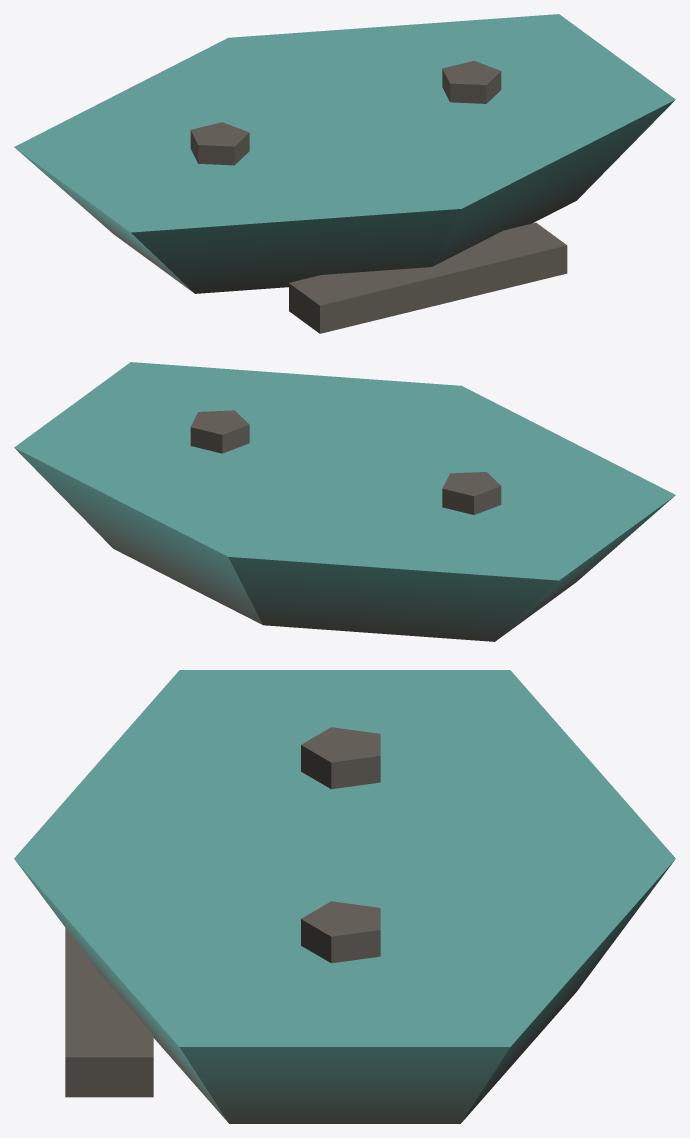
File: head_wide_C.glb
3 renders of one model, top to bottom at view 1: azimuth 30°, elevation 25°; view 2: azimuth 150°, elevation 25°; view 3: azimuth 270°, elevation 25°, orthographic. The views are drawn at different scales.
Size of the model in its own units: 1 by 0.2227 by 0.7423.
